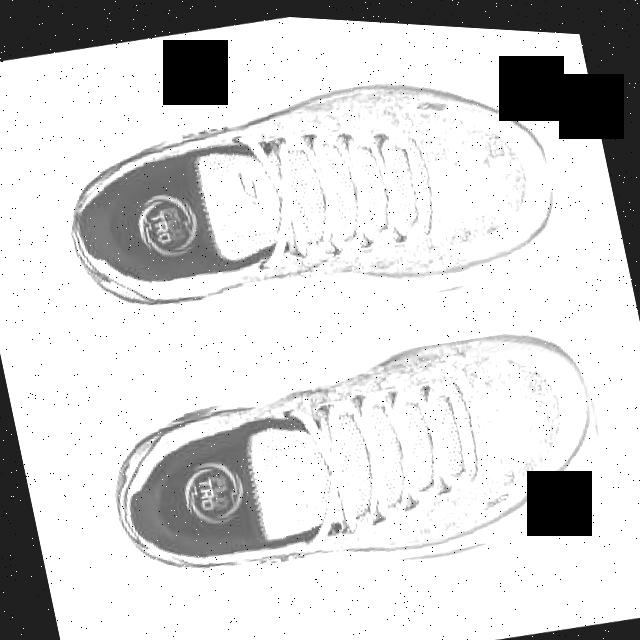shoe: (32, 30, 572, 384), (85, 291, 623, 633)
